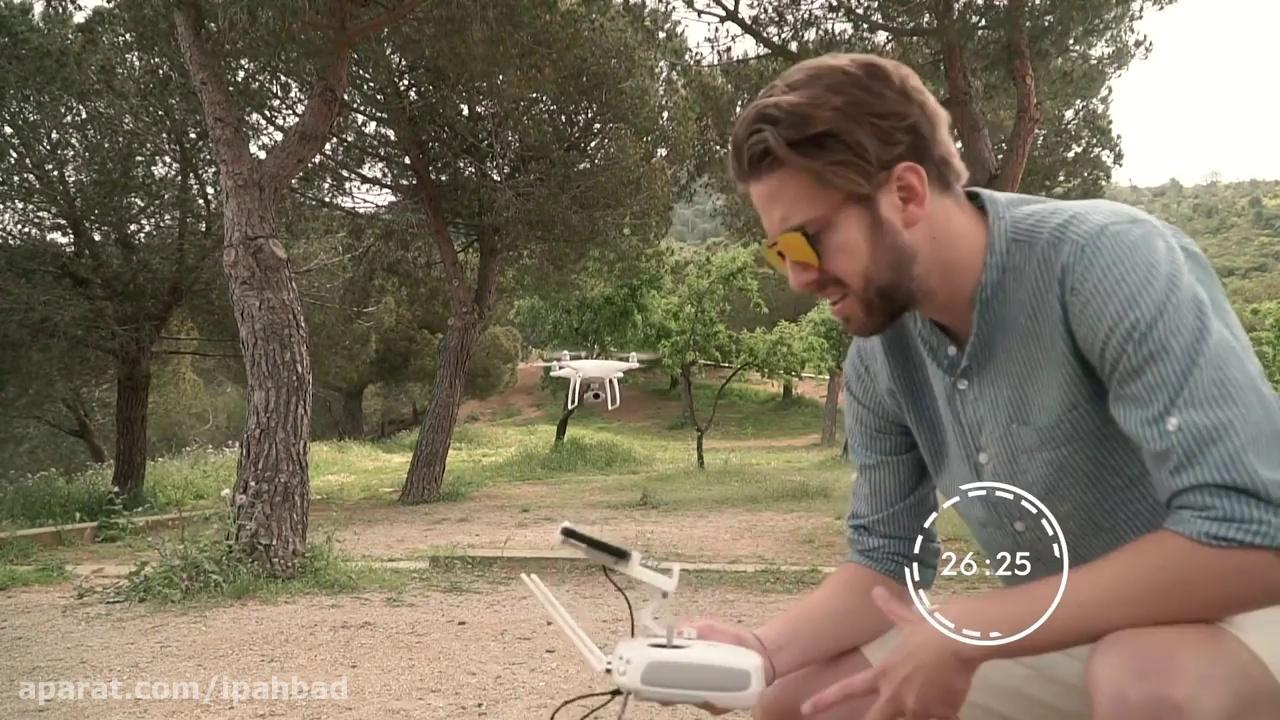drone: (530, 342, 663, 409)
